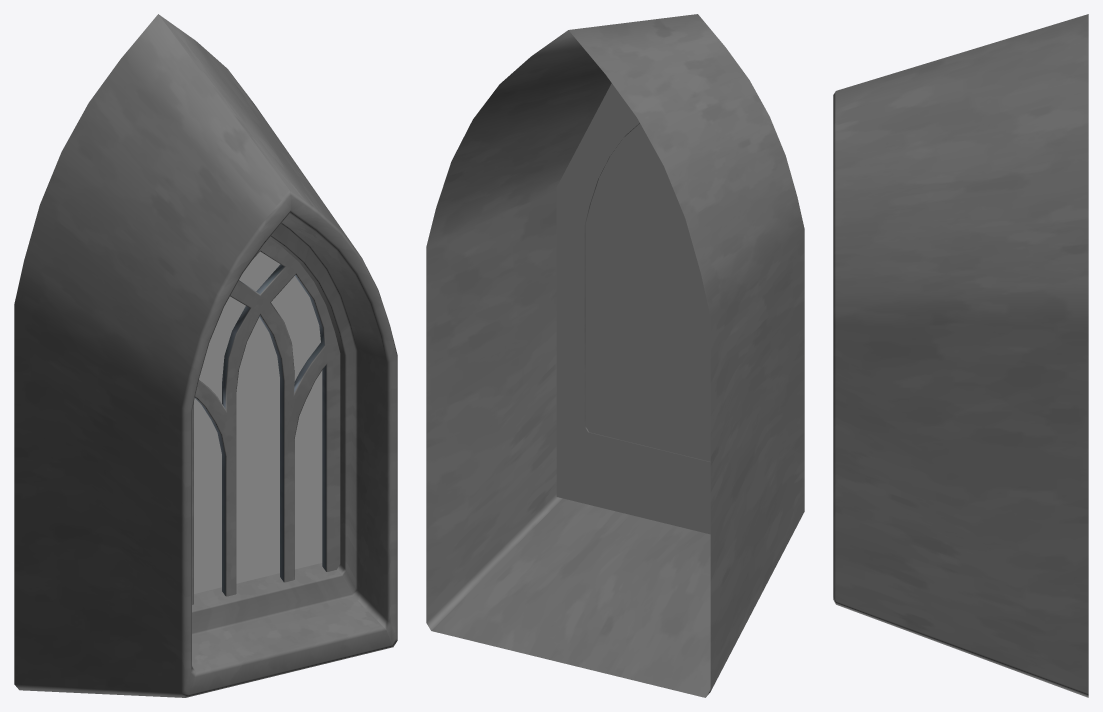
Rendered from WindowSingle.fbx.
3 views of the same model, side by side, from view 1: azimuth 30°, elevation 25°; view 2: azimuth 150°, elevation 25°; view 3: azimuth 270°, elevation 25° (orthographic). The views are drawn at different scales.
Parts seen in each view (by area): view 1: WindowSingle; view 2: WindowSingle; view 3: WindowSingle.
Boxes of the visible parts, bbox=[...] form: WindowSingle: bbox=[14, 14, 397, 697]; WindowSingle: bbox=[426, 14, 804, 697]; WindowSingle: bbox=[833, 14, 1088, 697].
Size of the model in its own units: 210 by 447 by 167.
3 materials, 2 textured.
